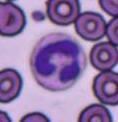N: (29, 32, 86, 90)
